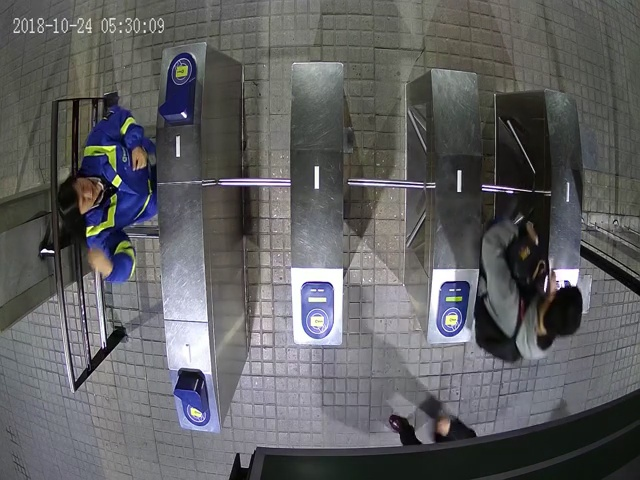Chaleco_azul: (58, 106, 159, 282)
